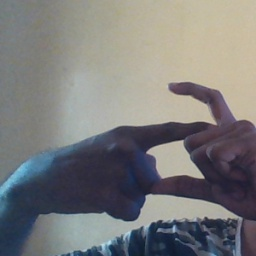E: (119, 78, 236, 201)
